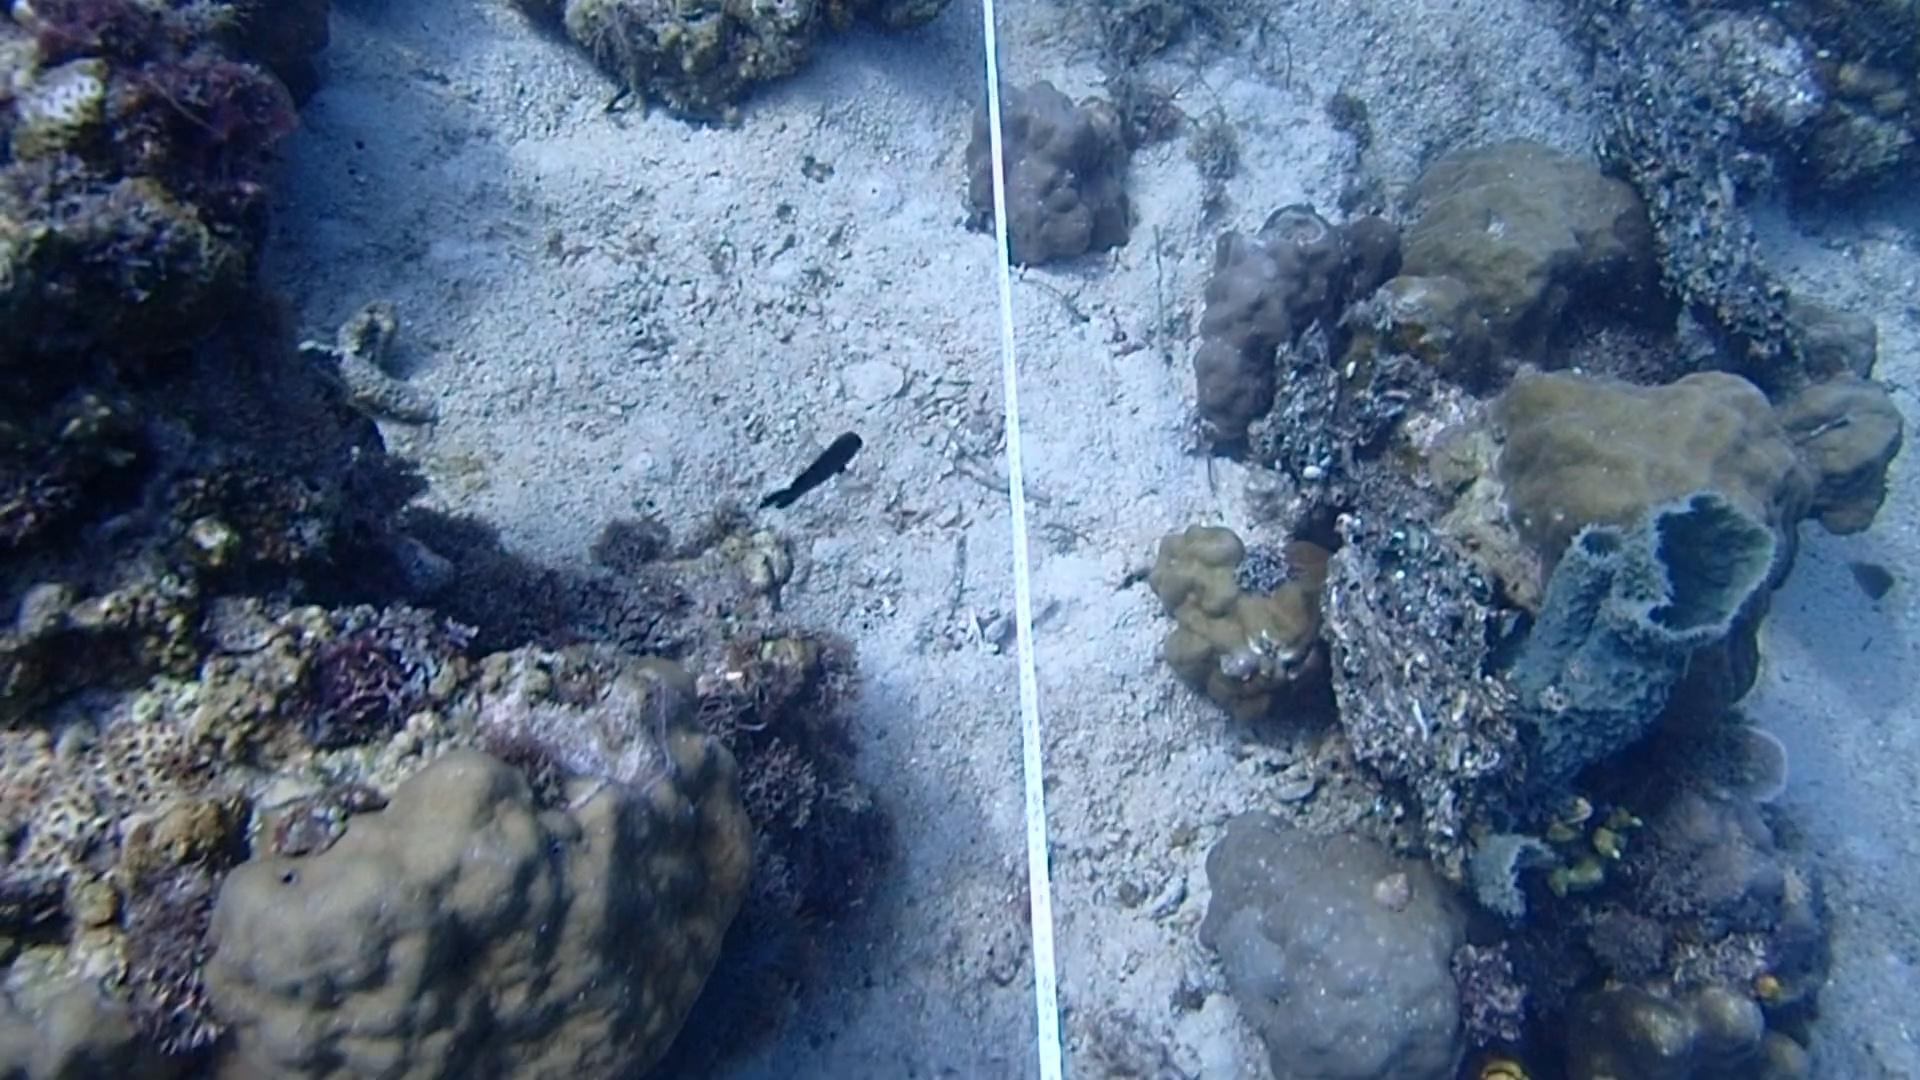Dark Fish: (760, 417, 873, 517)
